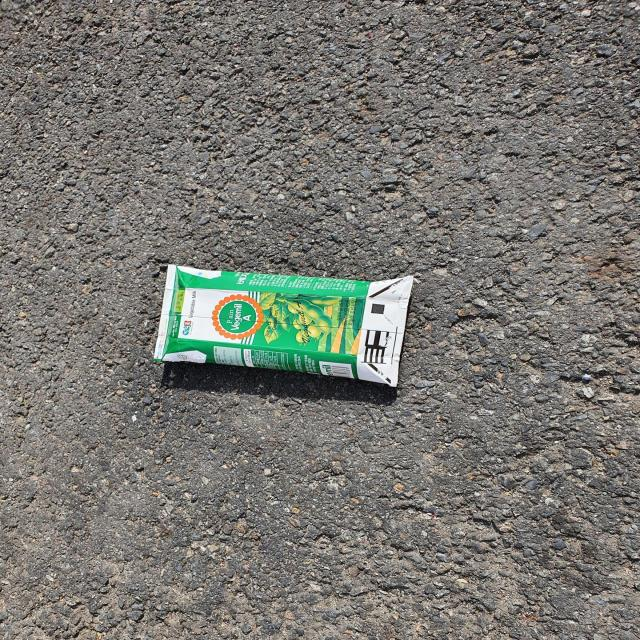paperpack: (153, 265, 414, 387)
